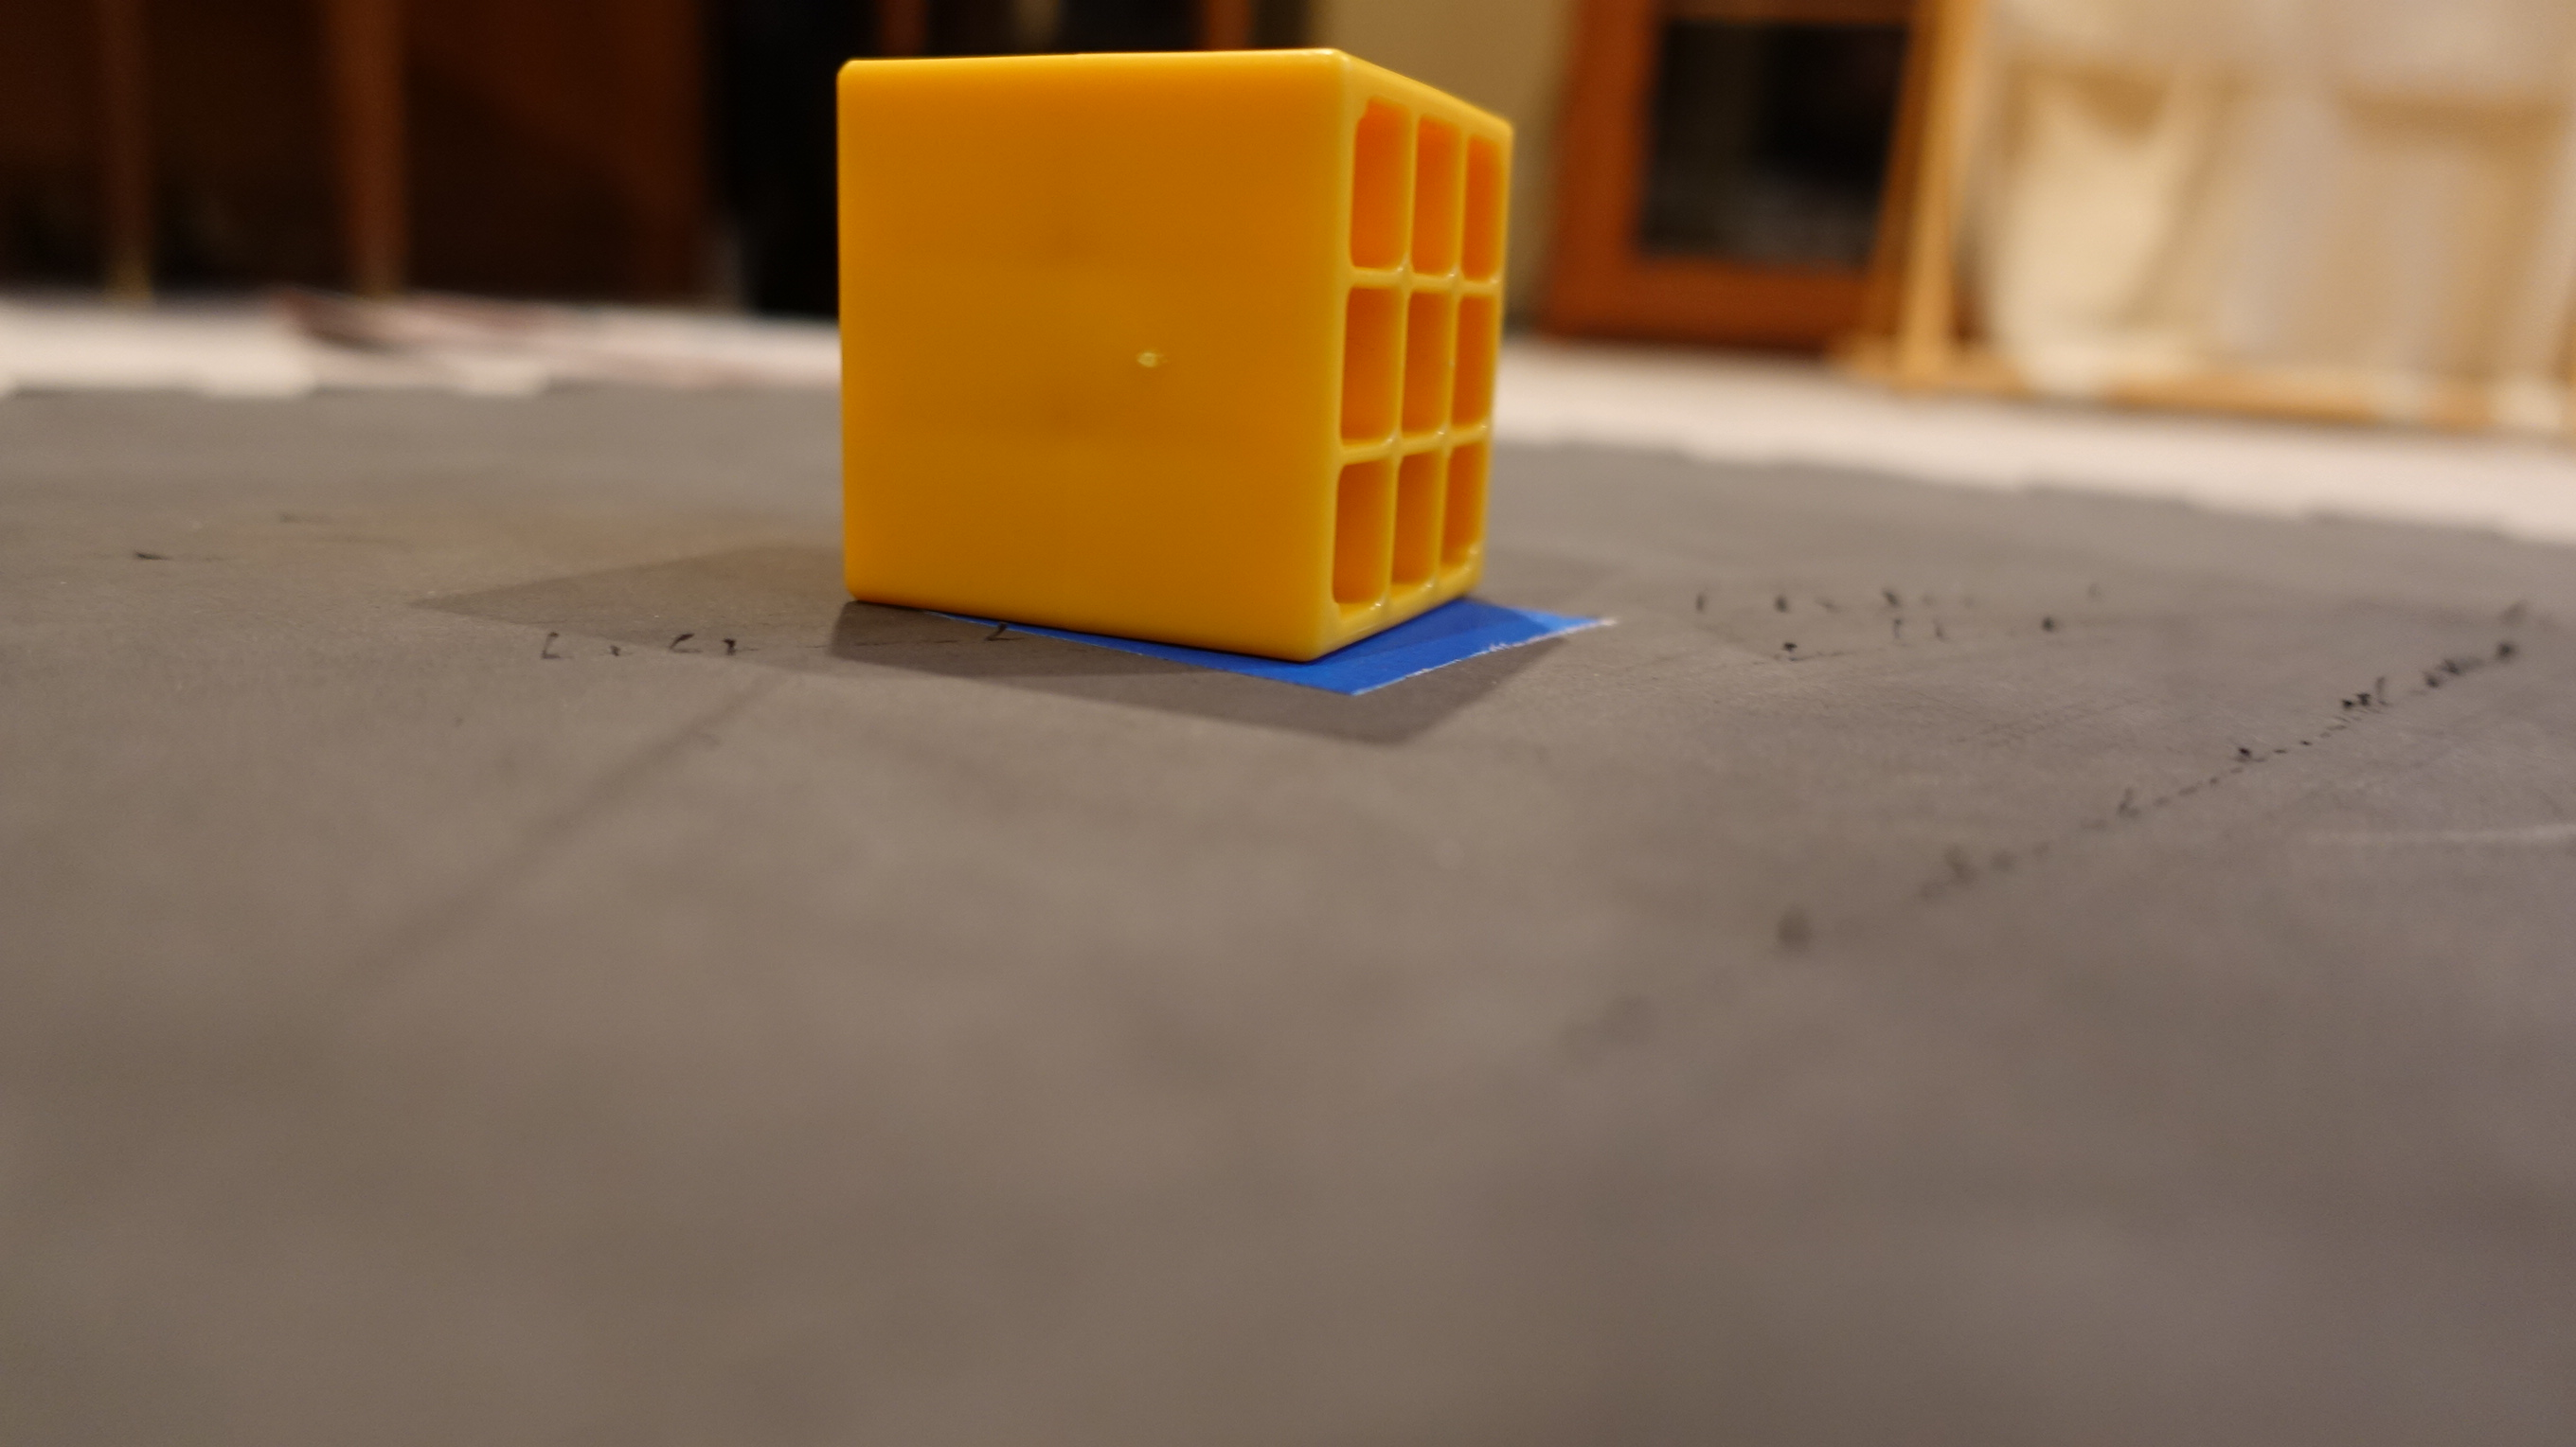gold: (810, 37, 1523, 663)
